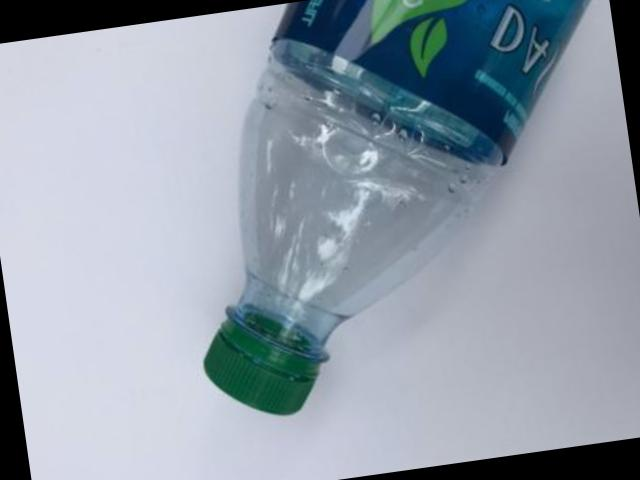plastic: (201, 0, 588, 416)
